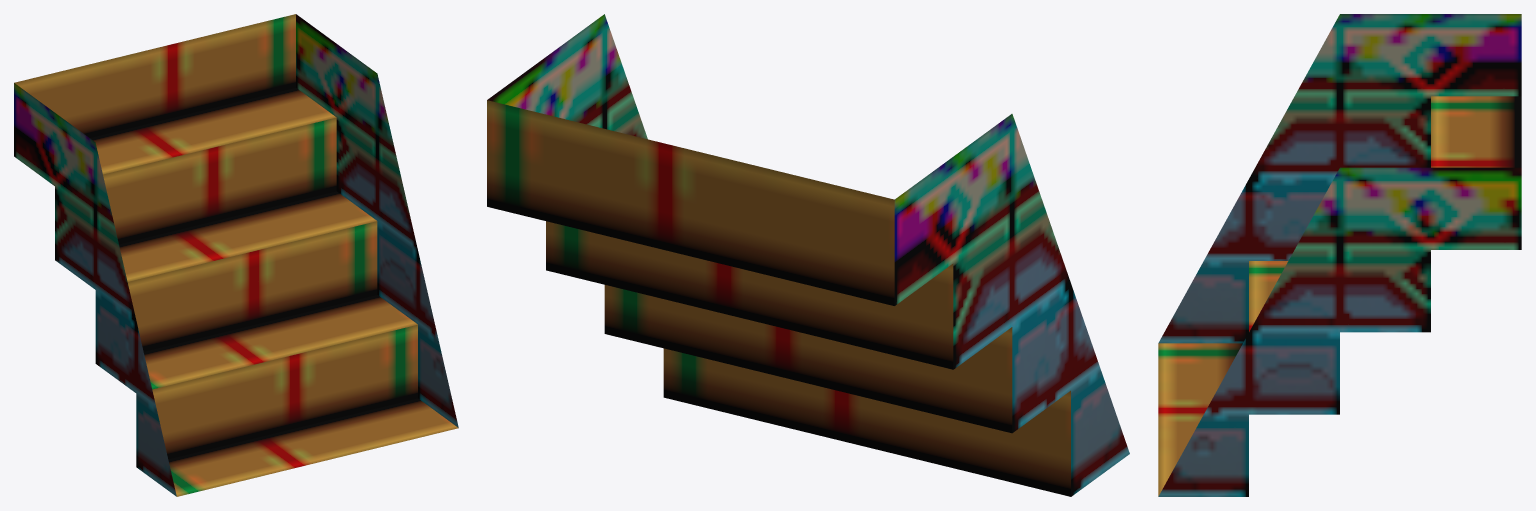
Rendered from arch_cathedral_stairs_wallsAll.FBX.
3 renders of one model, left to right at view 1: azimuth 30°, elevation 25°; view 2: azimuth 150°, elevation 25°; view 3: azimuth 270°, elevation 25°, orthographic. The views are drawn at different scales.
Parts seen in each view (by area): view 1: arch_cathedral_stairs_wallsAll; view 2: arch_cathedral_stairs_wallsAll; view 3: arch_cathedral_stairs_wallsAll.
Part boxes in pixels (x1,y1,x2,y2): arch_cathedral_stairs_wallsAll: (14,14,458,496); arch_cathedral_stairs_wallsAll: (487,14,1129,496); arch_cathedral_stairs_wallsAll: (1158,14,1521,496).
Bounding box in the file's own units: 2 × 2 × 2.
1 material, 1 textured.
